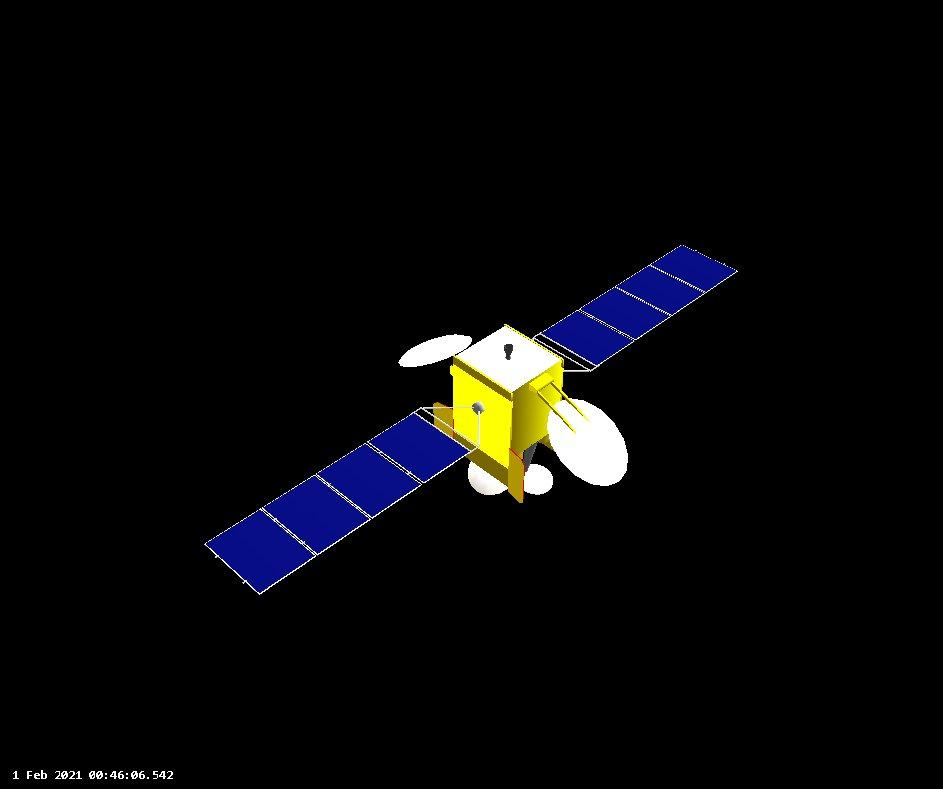antenna: (544, 395, 632, 488), (393, 328, 475, 372), (464, 455, 512, 497), (521, 458, 557, 494), (503, 343, 514, 361)
body: (450, 321, 566, 469)
solar: (201, 397, 487, 598), (525, 239, 744, 375)
